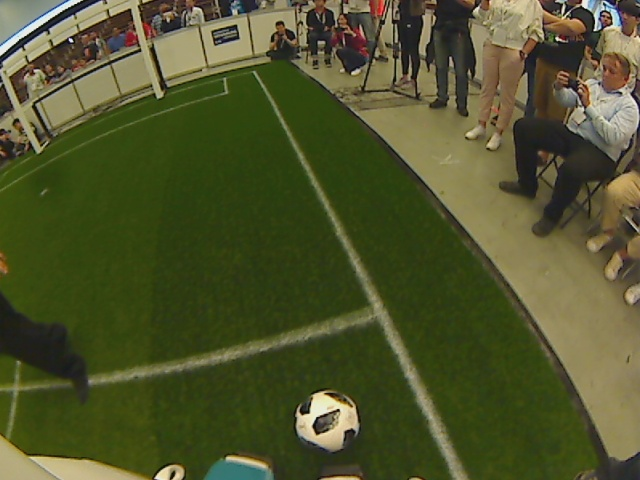ball: (291, 389, 363, 454)
